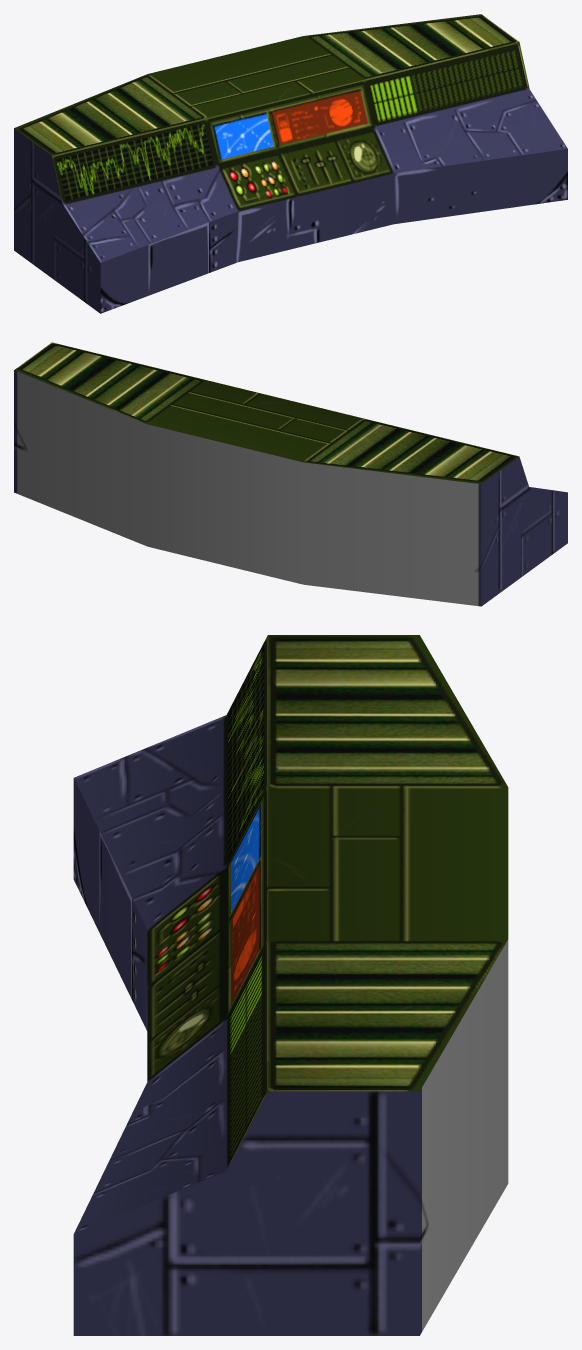
The model's file is spaceshipComputerMAPPED.FBX.
3 views of the same model, one above another, from view 1: azimuth 30°, elevation 25°; view 2: azimuth 150°, elevation 25°; view 3: azimuth 270°, elevation 25° (orthographic). The views are drawn at different scales.
Parts seen in each view (by area): view 1: computer; view 2: computer; view 3: computer.
Part boxes in pixels (bbox=[...]): computer: bbox=[14, 14, 567, 313]; computer: bbox=[14, 342, 567, 606]; computer: bbox=[73, 635, 508, 1335].
Size of the model in its own units: 200 by 80.48 by 50.
